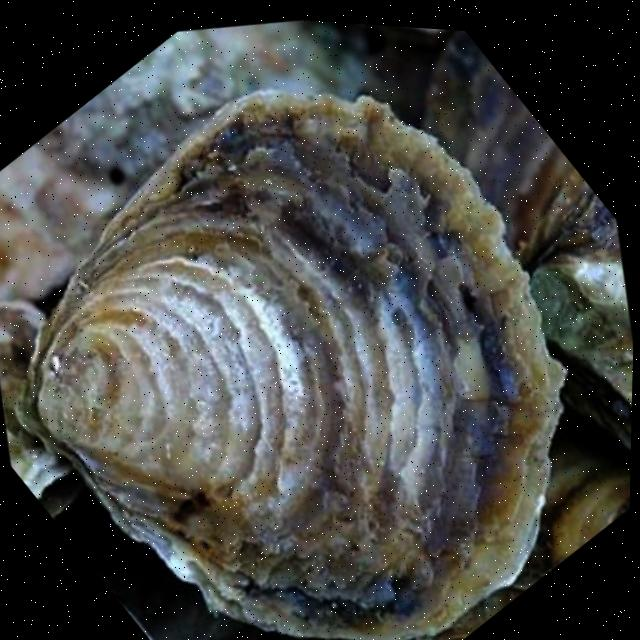Oyster-Closed: (530, 255, 633, 449)
Oyster-Indeterminate: (20, 92, 565, 640), (424, 31, 617, 271), (0, 301, 82, 519), (551, 466, 631, 567), (134, 585, 237, 640), (546, 437, 617, 513), (429, 587, 525, 640), (511, 522, 555, 592)
